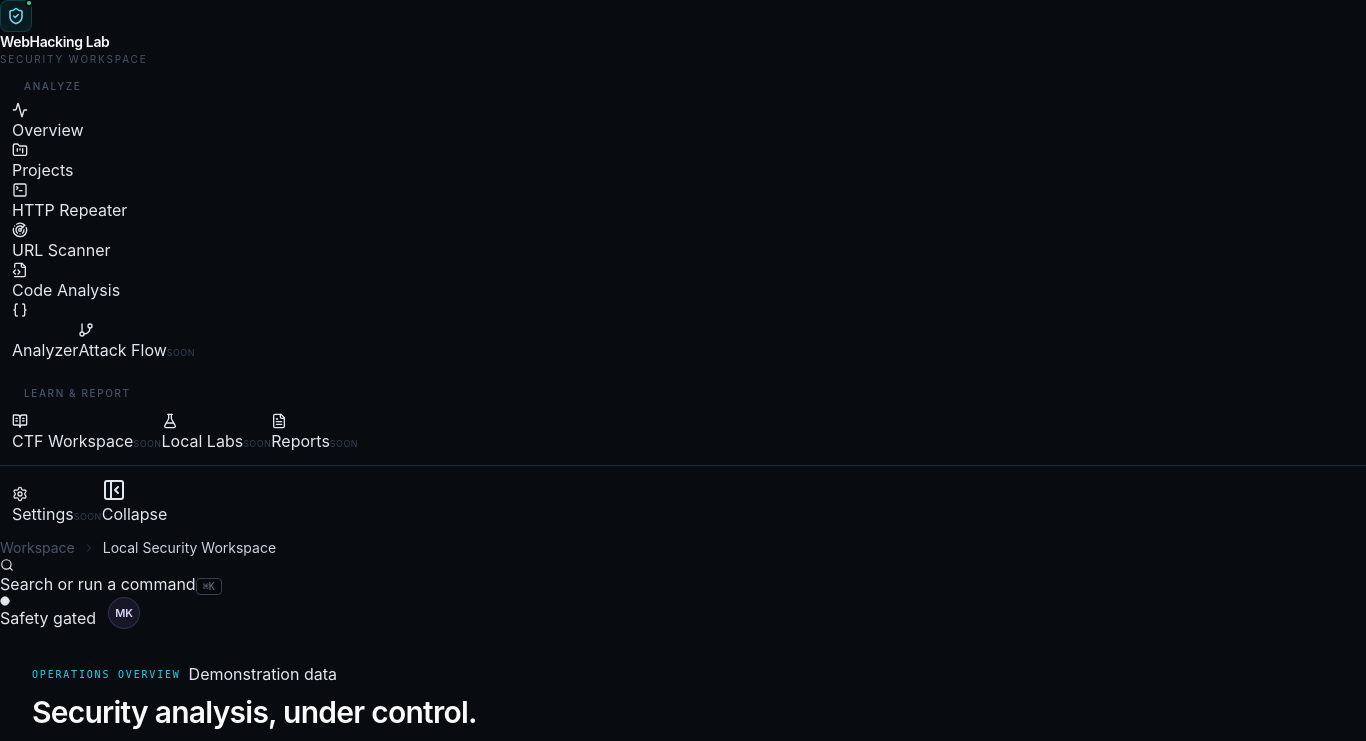
Scenario: Dashboard › opens and closes the keyboard command palette
Later steps or results of the test are not shown.
Click the button with aria-label "Collapse sidebar" at (135, 502), box [102,478,167,526]
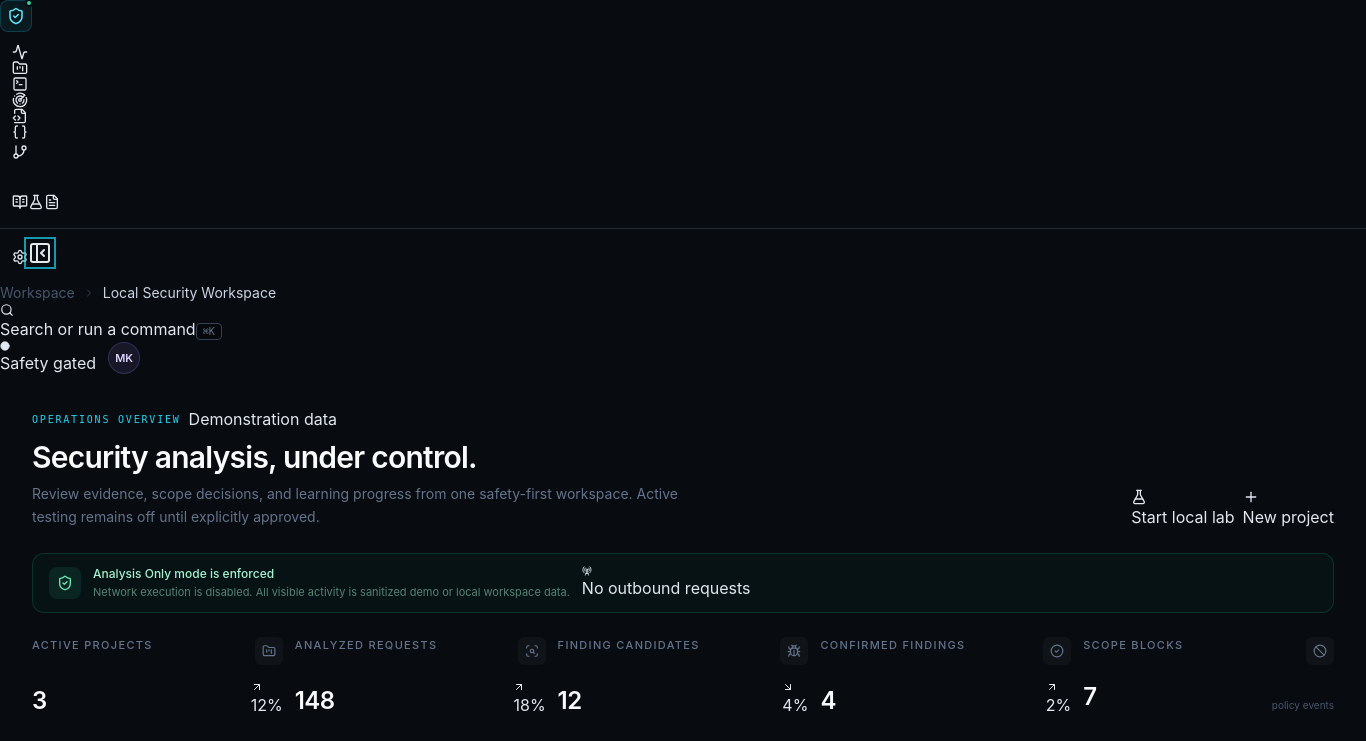
Expected: the button named "Expand sidebar" is shown, [28,241,52,265]
Type keys "{Control>}k{/Control}"
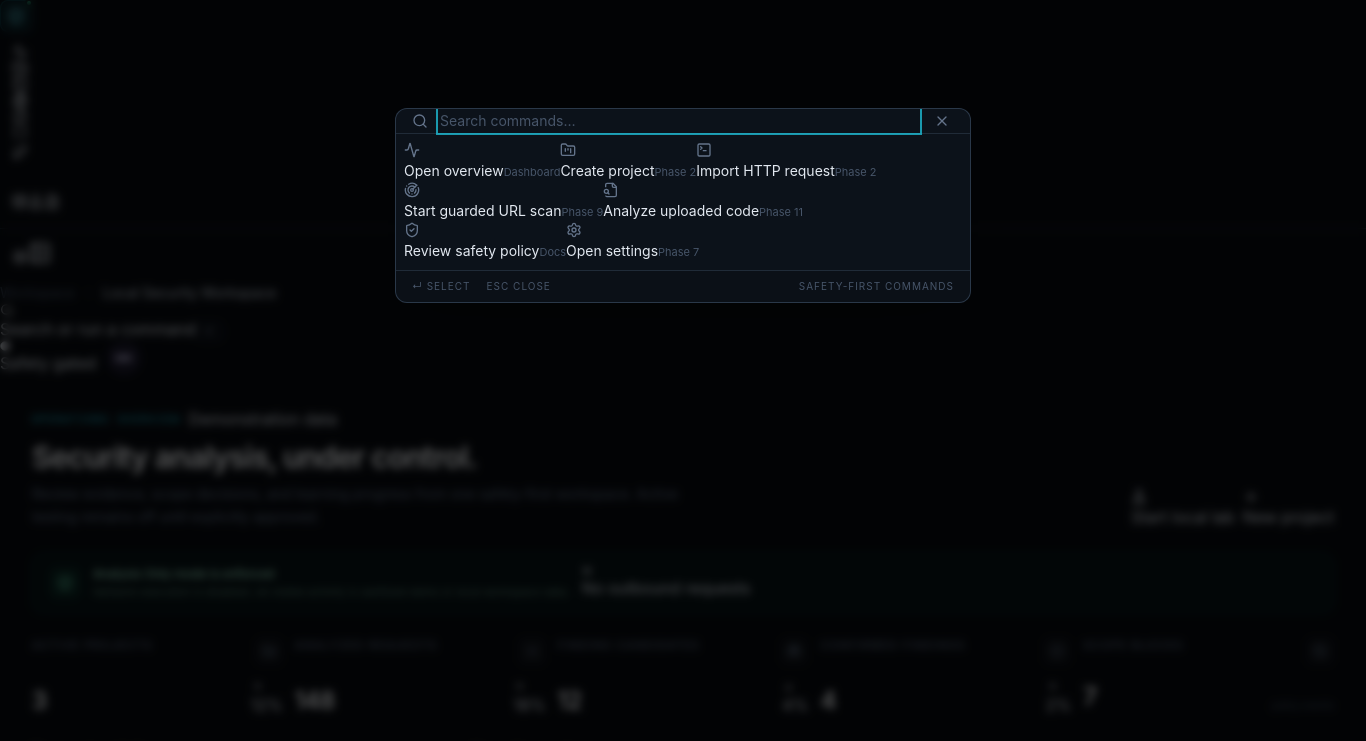
Expected: the dialog named "Command palette" is shown, [395,108,971,302]
